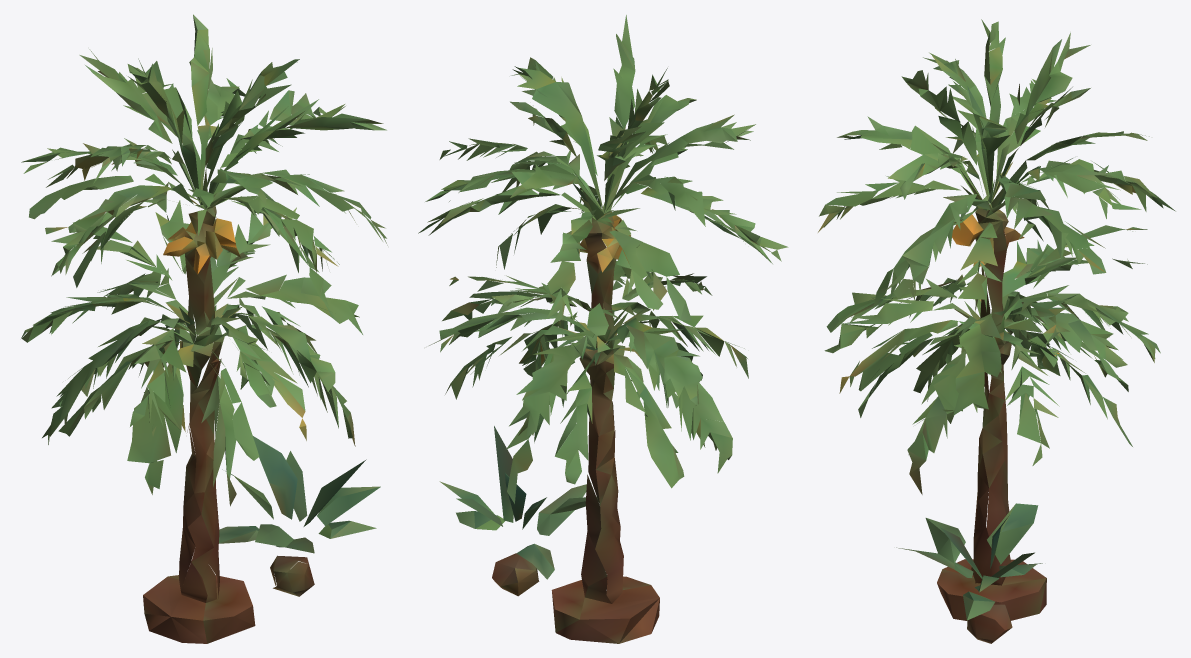
File: prop_palm.glb
3 views of the same model, side by side, from view 1: azimuth 30°, elevation 25°; view 2: azimuth 150°, elevation 25°; view 3: azimuth 270°, elevation 25° (orthographic). The views are drawn at different scales.
Visible parts, largest first — view 1: body; view 2: body; view 3: body.
Boxes of the visible parts, x1=… form: body: x1=21, y1=14, x2=387, y2=643; body: x1=418, y1=15, x2=788, y2=643; body: x1=818, y1=19, x2=1175, y2=643.
Bounding box in the file's own units: 3.68 × 6 × 3.5.
1 material, 1 textured.
